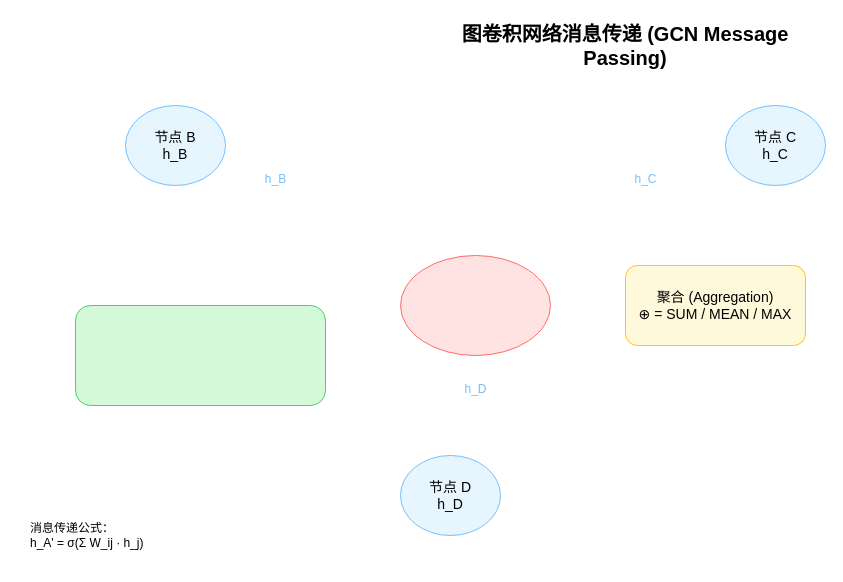
Some shapes in this 843 by 582 pixel diagram are drawn without their labels. Here are the shapes that lost their labels. From the top down, the centre of each, then its label:
At (x=475, y=305): "节点 A [年龄，收入，负债]".
At (x=200, y=355): "更新后的嵌入 h_A' = σ(W · ⊕{h_B, h_C, h_D})".
